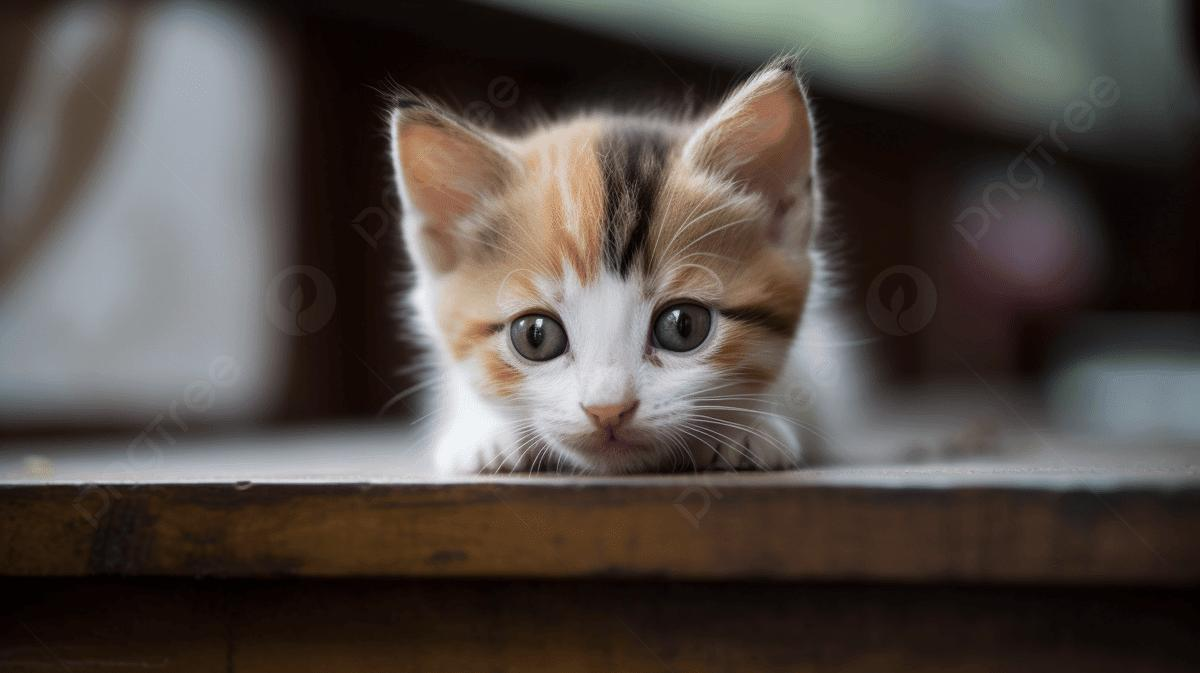cat: (377, 70, 855, 478)
